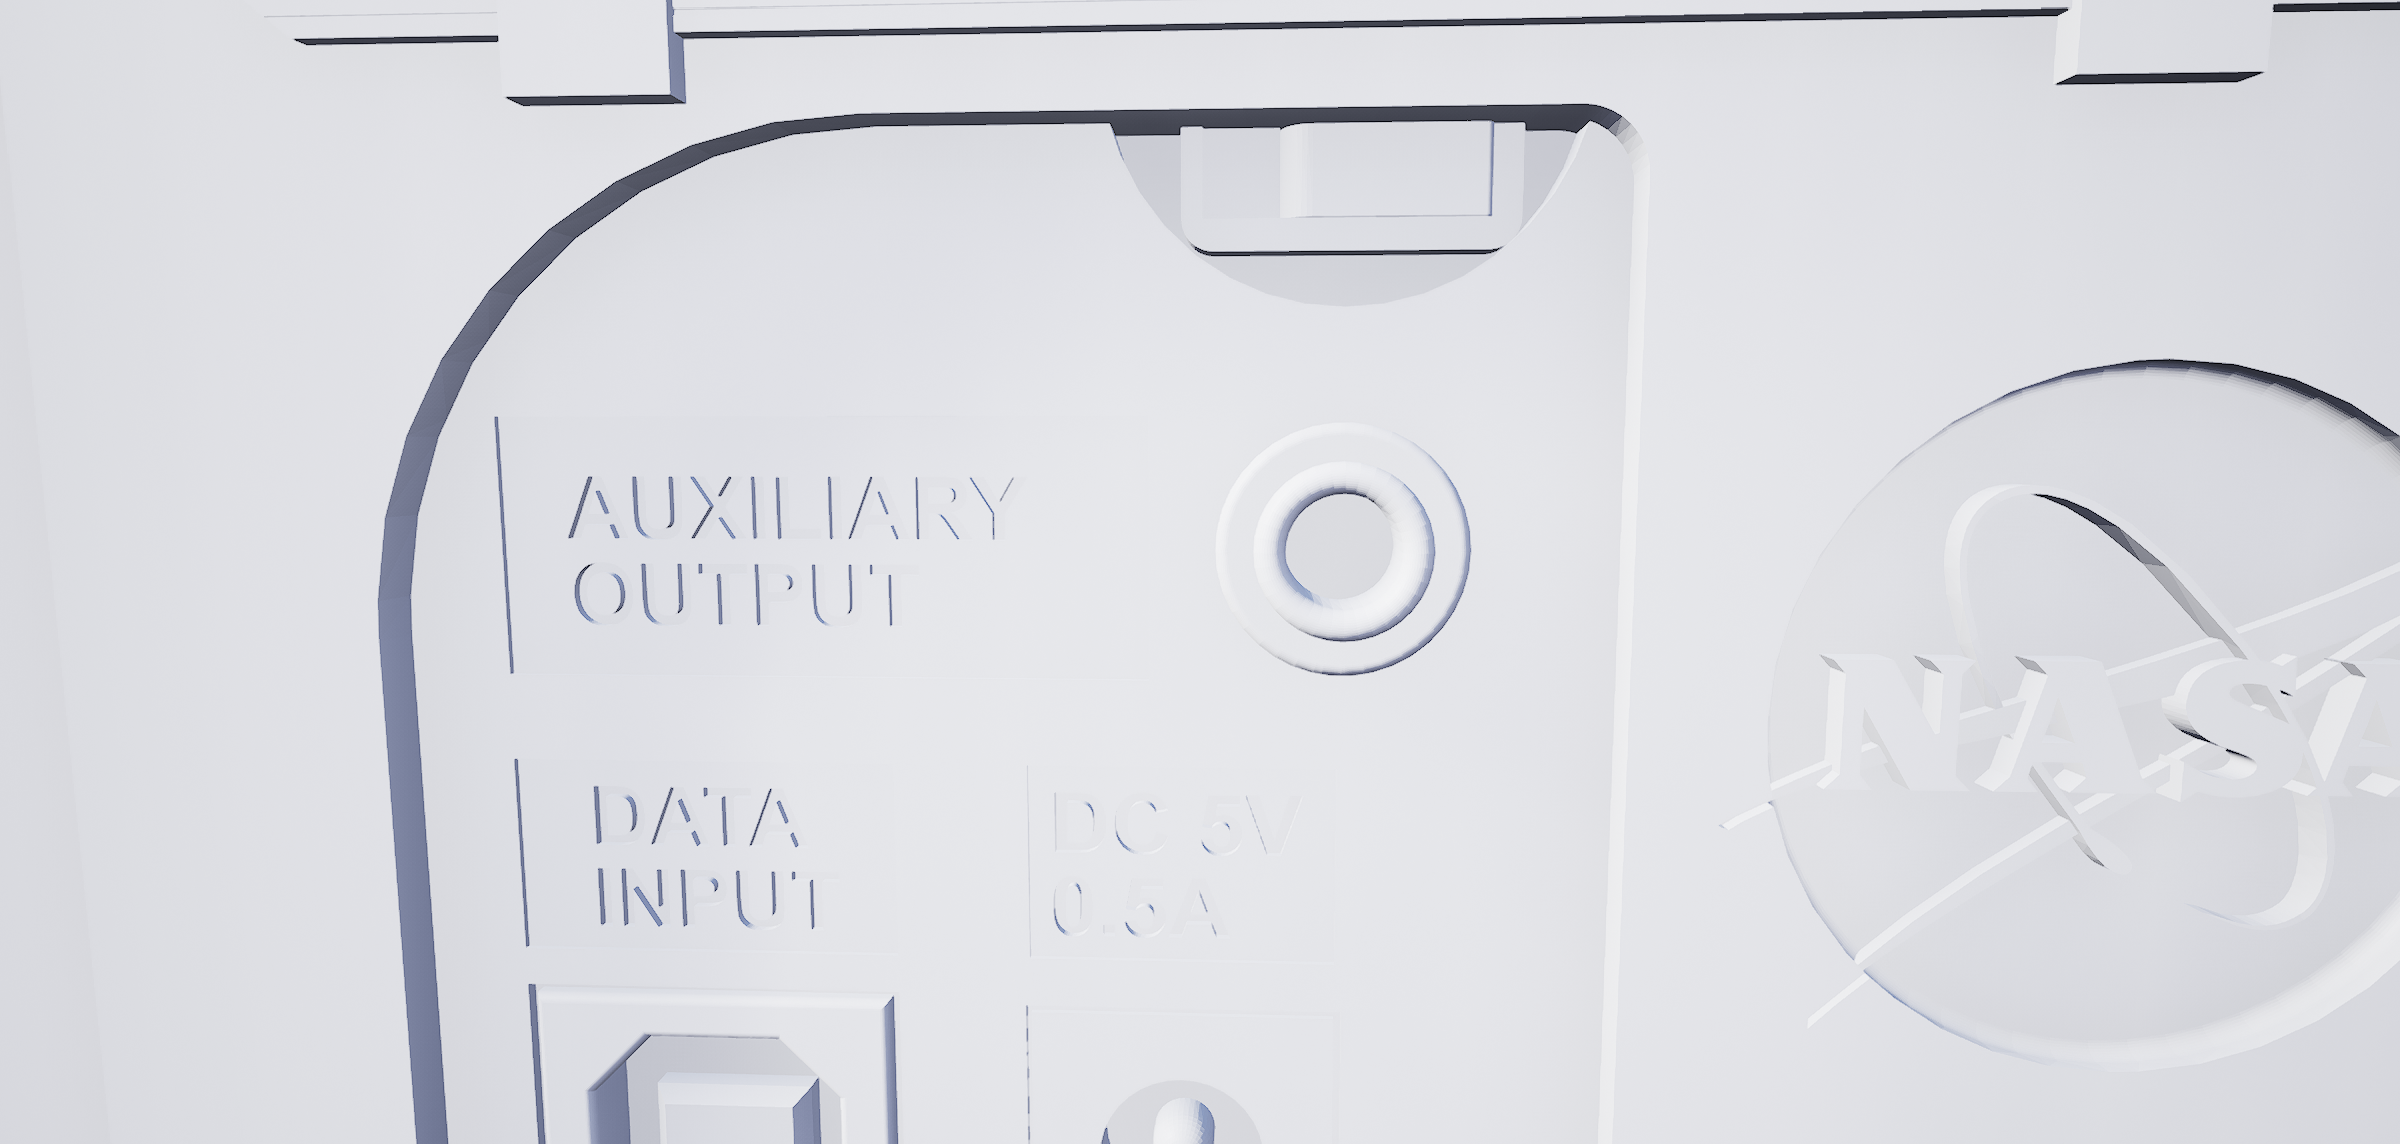aux: (1211, 423, 1488, 691)
dc: (1081, 1070, 1272, 1144)
usb: (569, 1017, 853, 1144)
